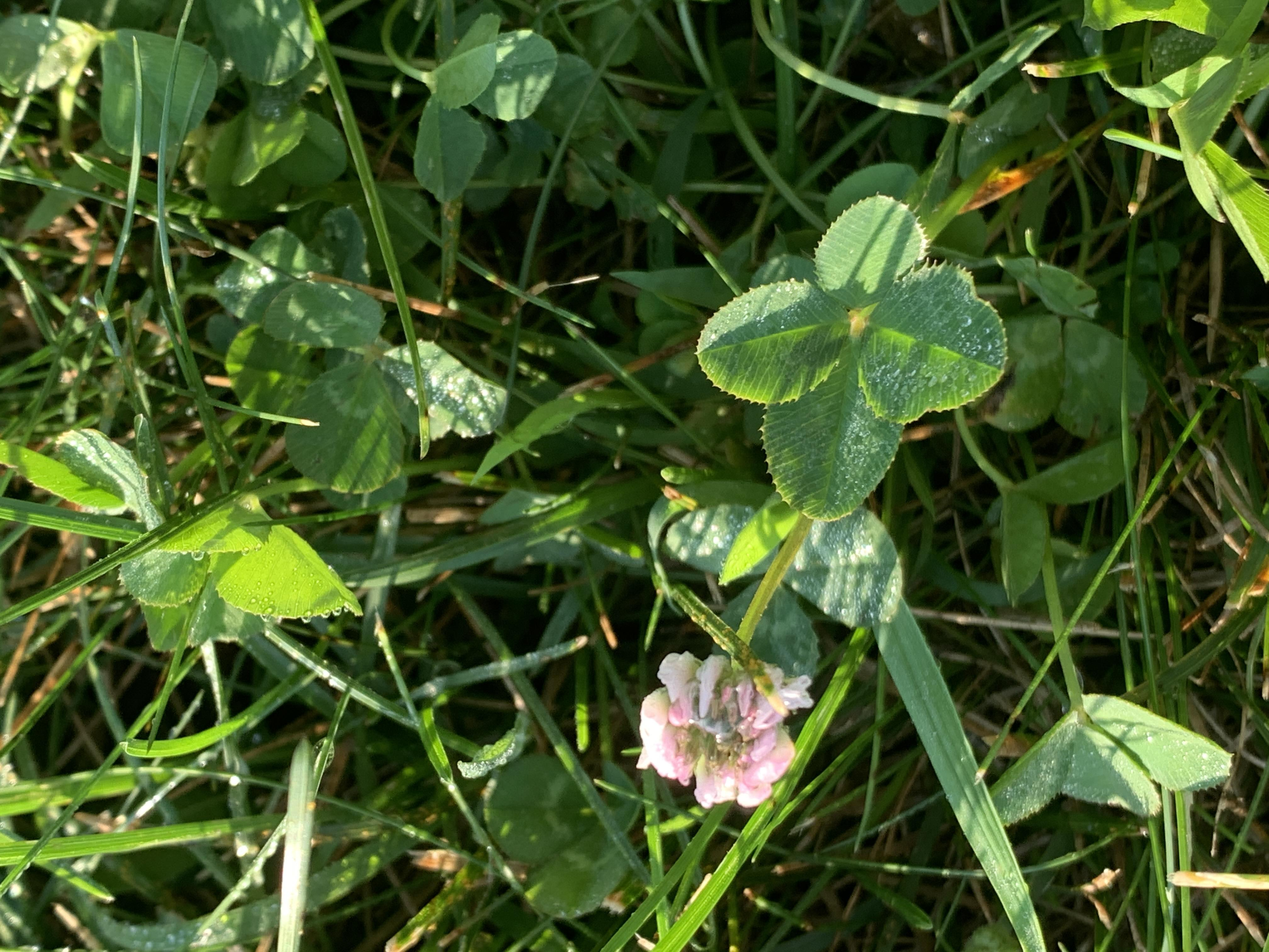4-Leaf-Clovers: (586, 519, 1003, 760)
